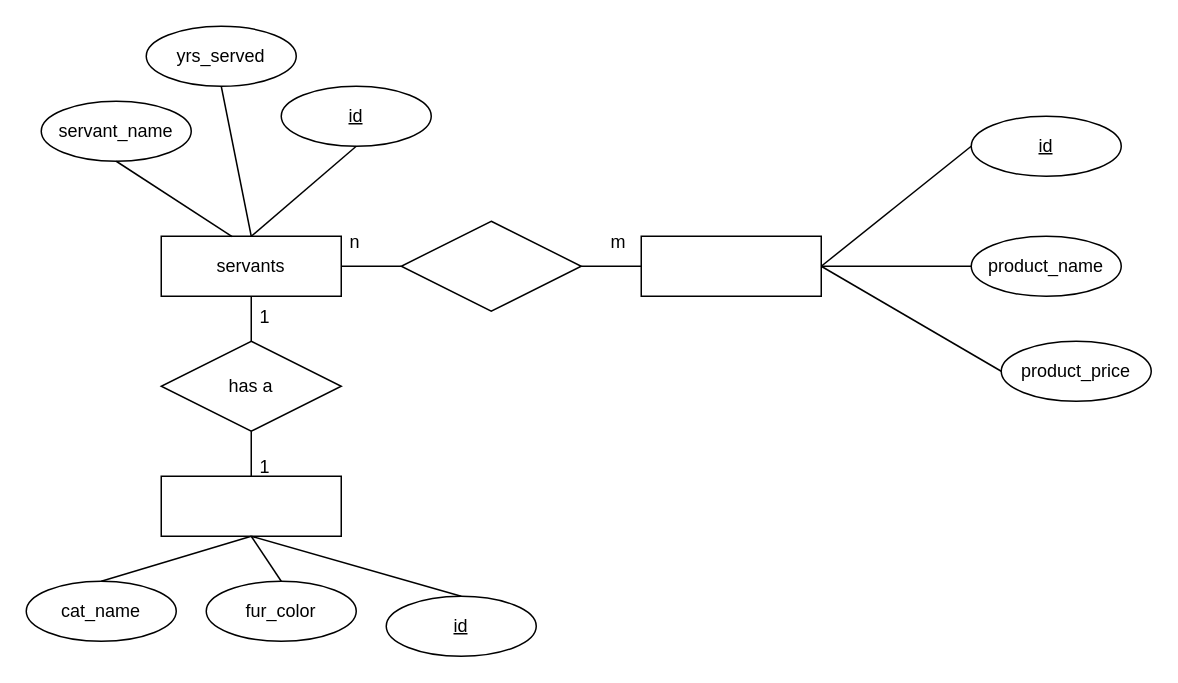
Some shapes in this 1178 by 683 pixel diagram are drawn without their labels. The shapes that lost their labels are listed below. From the top down, each one's centre as x and y in pixels, then its label:
At (x=490, y=265): "puchases".
At (x=730, y=265): "products".
At (x=250, y=505): "cats".
